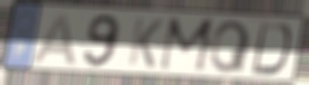9: (82, 13, 123, 69)
A: (30, 11, 80, 68)
D: (248, 20, 293, 76)
K: (126, 16, 166, 71)
M: (156, 16, 219, 75)
Q: (208, 20, 252, 75)
